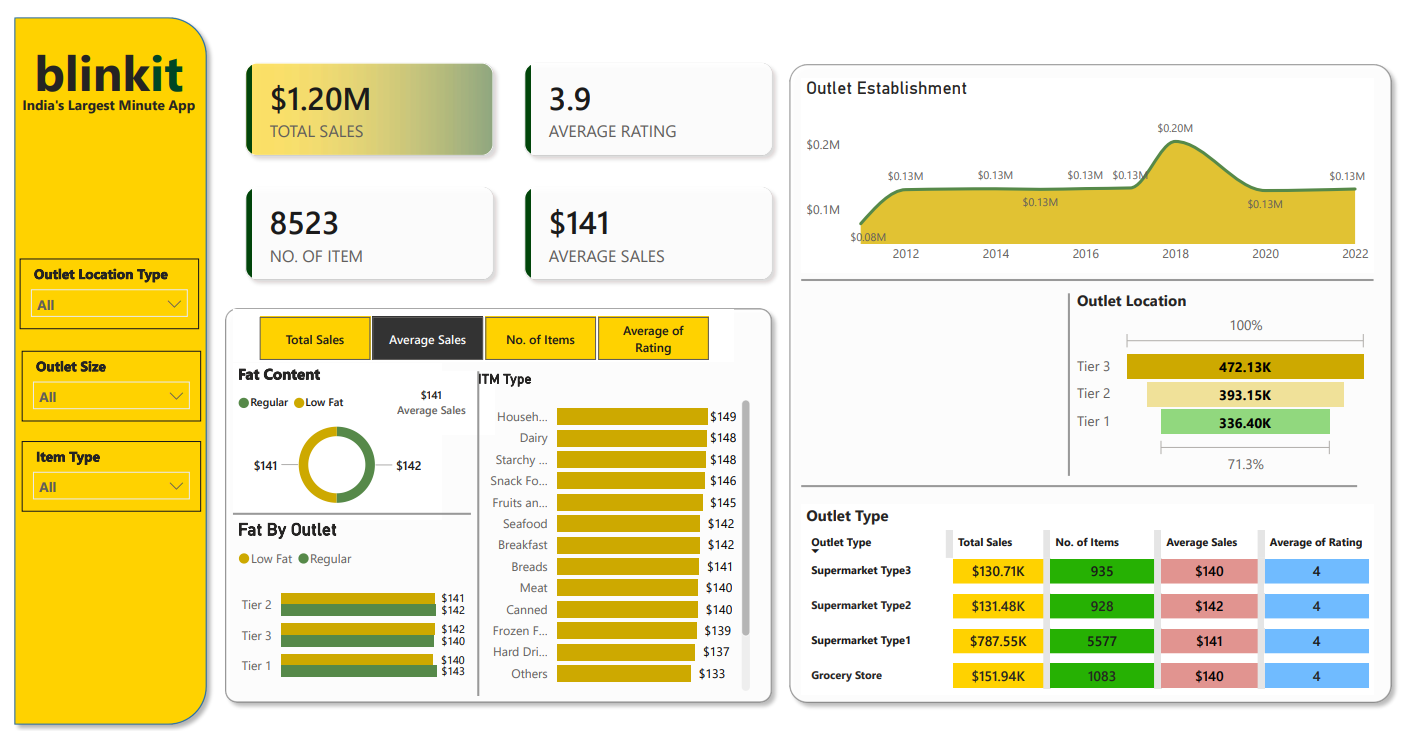

The page's visual inventory and layout, read from the dashboard file:
{"tool":"powerbi","page":{"name":"Page 1","canvas":[1400,720],"ordinal":0},"visuals":[{"type":"shape","box":[10,0,205,707],"z":0},{"type":"textbox","box":[8,24,206,90],"z":1000},{"type":"textbox","box":[16,80,190,70],"z":2000},{"type":"cardVisual","fields":{"Data":["BlinkIT Grocery Data.Total Sales","BlinkIT Grocery Data.Average of Rating","BlinkIT Grocery Data.No. of Items","BlinkIT Grocery Data.Average Sales"]},"box":[216,24,570,270],"z":3000},{"type":"shape","box":[215,283.3,550,401.7],"z":4000},{"type":"donutChart","title":"Fat Content","fields":{"Y":["BlinkIT Grocery Data.Average Sales"],"Category":["BlinkIT Grocery Data.Item Fat Content"]},"box":[232.5,345,202.5,152.5],"z":5000},{"type":"cardVisual","fields":{"Data":["BlinkIT Grocery Data.Average Sales"]},"box":[364.4,353.3,123.3,62.2],"z":6000},{"type":"slicer","fields":{"Values":["Metrics.Metrics"]},"box":[232.2,294.4,487.8,51.1],"z":7000},{"type":"clusteredBarChart","title":"Fat By Outlet","fields":{"Y":["BlinkIT Grocery Data.Average Sales"],"Category":["BlinkIT Grocery Data.Outlet Location Type"],"Series":["BlinkIT Grocery Data.Item Fat Content"]},"box":[232.5,497.5,231.2,172.5],"z":8000},{"type":"shape","box":[451.7,353.3,38.3,316.7],"z":9000},{"type":"barChart","title":"ITM Type","fields":{"Y":["BlinkIT Grocery Data.Average Sales"],"Category":["BlinkIT Grocery Data.Item Type"]},"box":[465,353.3,275,316.7],"z":10000},{"type":"shape","box":[766,46,604,640],"z":11000},{"type":"lineChart","title":"Outlet Establishment","fields":{"Y":["BlinkIT Grocery Data.Total Sales"],"Category":["BlinkIT Grocery Data.Outlet Establishment Year"]},"box":[786,68,558,190],"z":12000},{"type":"shape","box":[786,246,558,38],"z":13000},{"type":"slicer","title":"Outlet Size","fields":{"Values":["BlinkIT Grocery Data.Outlet Location Type"]},"box":[24.7,243,174.5,69.1],"z":14000},{"type":"shape","box":[1028,278,38,178],"z":15000},{"type":"funnel","title":"Outlet Location","fields":{"Y":["Sum(BlinkIT Grocery Data.Sales)"],"Category":["BlinkIT Grocery Data.Outlet Location Type"]},"box":[1050,274,294,184],"z":16000},{"type":"shape","box":[786,446,542,40],"z":17000},{"type":"pivotTable","title":"Outlet Type","fields":{"Rows":["BlinkIT Grocery Data.Outlet Type"],"Values":["BlinkIT Grocery Data.Total Sales","BlinkIT Grocery Data.No. of Items","BlinkIT Grocery Data.Average Sales","BlinkIT Grocery Data.Average of Rating"]},"box":[786,484,558,186],"z":18000},{"type":"shape","box":[232,474,232,38],"z":19000},{"type":"slicer","title":"Outlet Size","fields":{"Values":["BlinkIT Grocery Data.Outlet Size"]},"box":[26.6,333.9,174.5,69.1],"z":20000},{"type":"slicer","title":"Outlet Size","fields":{"Values":["BlinkIT Grocery Data.Item Type"]},"box":[26.6,421.2,174.5,69.1],"z":21000}]}

Visuals, with their boxes in screenshot pixels (x1, y1, x2, y2), scaled from the page's 1400x720 canvas onto the 1423x731 screenshot:
shape: l=10, t=0, r=219, b=718
textbox: l=8, t=24, r=218, b=116
textbox: l=16, t=81, r=209, b=152
cardVisual - BlinkIT Grocery Data.Total Sales x BlinkIT Grocery Data.Average of Rating: l=220, t=24, r=799, b=298
shape: l=219, t=288, r=778, b=695
"Fat Content" donutChart: l=236, t=350, r=442, b=505
cardVisual - BlinkIT Grocery Data.Average Sales: l=370, t=359, r=496, b=422
slicer - Metrics.Metrics: l=236, t=299, r=732, b=351
"Fat By Outlet" clusteredBarChart: l=236, t=505, r=471, b=680
shape: l=459, t=359, r=498, b=680
"ITM Type" barChart: l=473, t=359, r=752, b=680
shape: l=779, t=47, r=1393, b=696
"Outlet Establishment" lineChart: l=799, t=69, r=1366, b=262
shape: l=799, t=250, r=1366, b=288
"Outlet Size" slicer: l=25, t=247, r=202, b=317
shape: l=1045, t=282, r=1084, b=463
"Outlet Location" funnel: l=1067, t=278, r=1366, b=465
shape: l=799, t=453, r=1350, b=493
"Outlet Type" pivotTable: l=799, t=491, r=1366, b=680
shape: l=236, t=481, r=472, b=520
"Outlet Size" slicer: l=27, t=339, r=204, b=409
"Outlet Size" slicer: l=27, t=428, r=204, b=498
